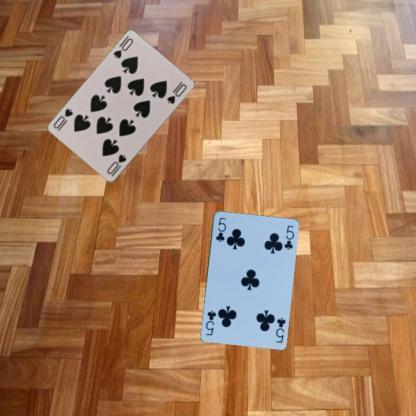10s: (104, 152, 128, 178), (112, 36, 134, 61)
5c: (213, 214, 227, 244), (272, 315, 286, 344)
